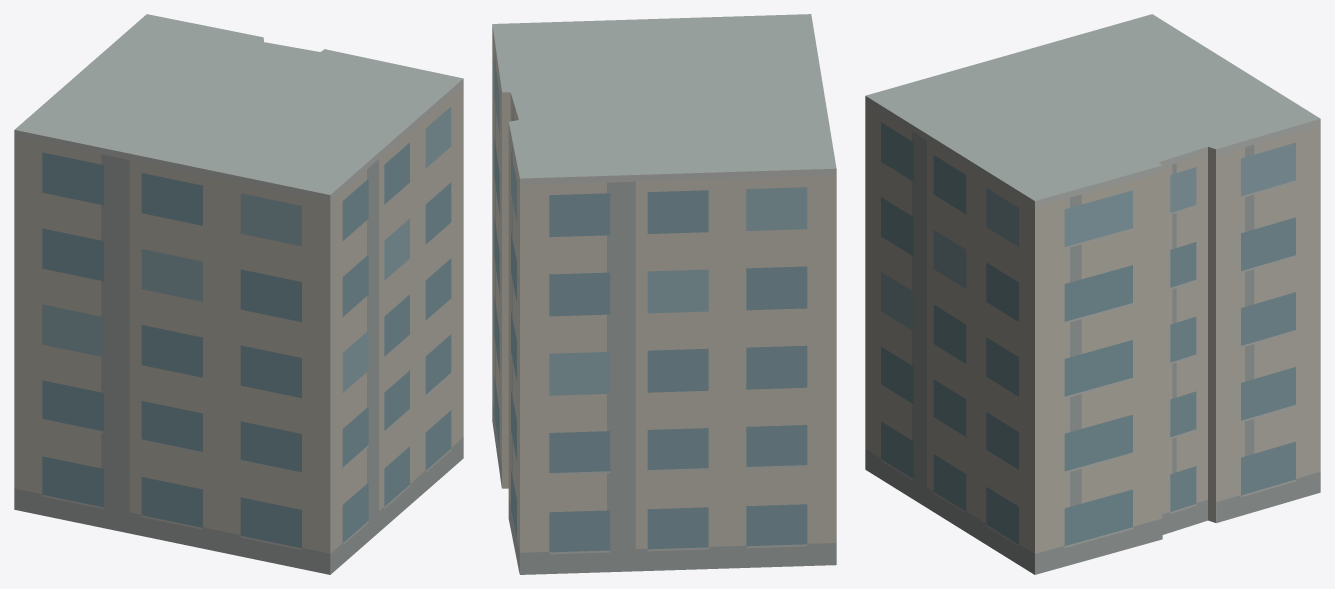
File: survey-upis-32886893.glb
3 renders of one model, left to right at view 1: azimuth 30°, elevation 25°; view 2: azimuth 150°, elevation 25°; view 3: azimuth 270°, elevation 25°, orthographic. The views are drawn at different scales.
Parts seen in each view (by area): view 1: survey-upis-32886893.tmp; view 2: survey-upis-32886893.tmp; view 3: survey-upis-32886893.tmp.
Part boxes in pixels (left/top/right/bottom): survey-upis-32886893.tmp: left=14, top=14, right=463, bottom=574; survey-upis-32886893.tmp: left=492, top=14, right=836, bottom=574; survey-upis-32886893.tmp: left=865, top=14, right=1320, bottom=574.
Bounding box in the file's own units: 15.3 × 14.25 × 15.74.
